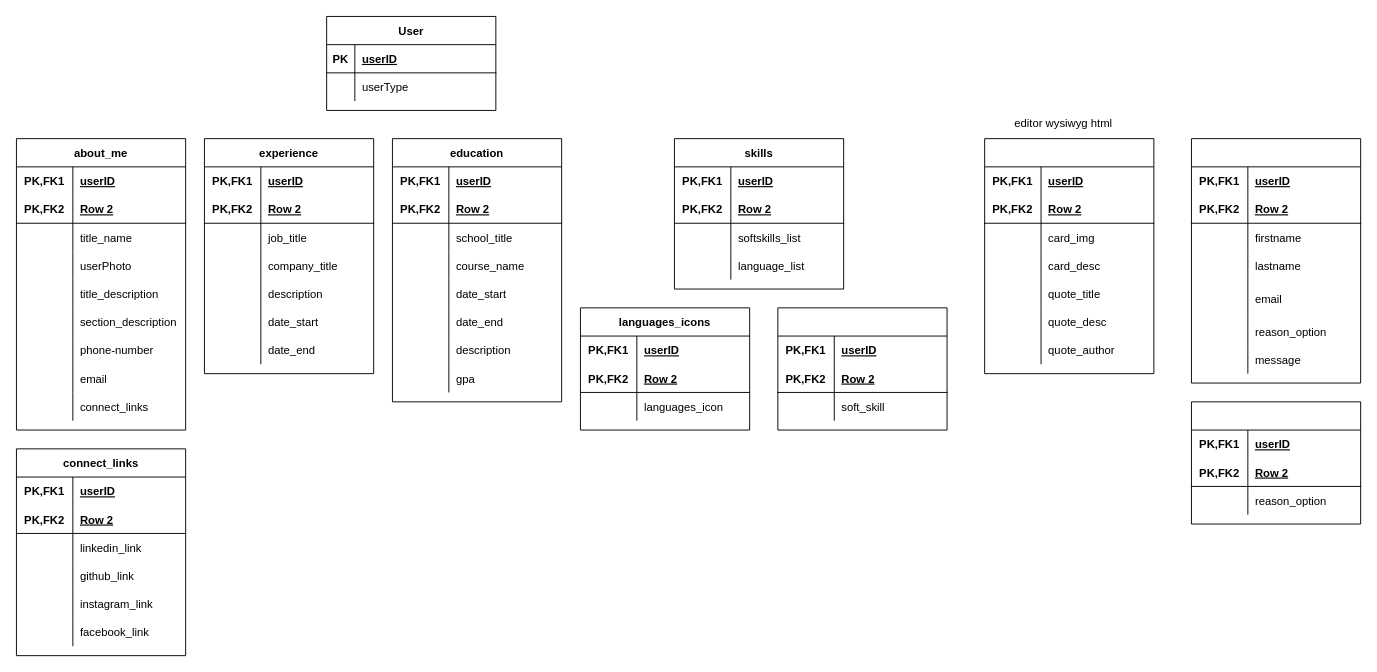
Image size: 1377x672. Some labels were removed from this diagram. The shapes that lost their labels are listed below. From the top down, each one's box as (x1, y1, x2, y2) in pixels, then its label:
(984, 138, 1154, 374): interests
(1191, 138, 1361, 383): contact_form
(777, 307, 947, 430): soft_skills
(1191, 401, 1361, 524): reason_options
